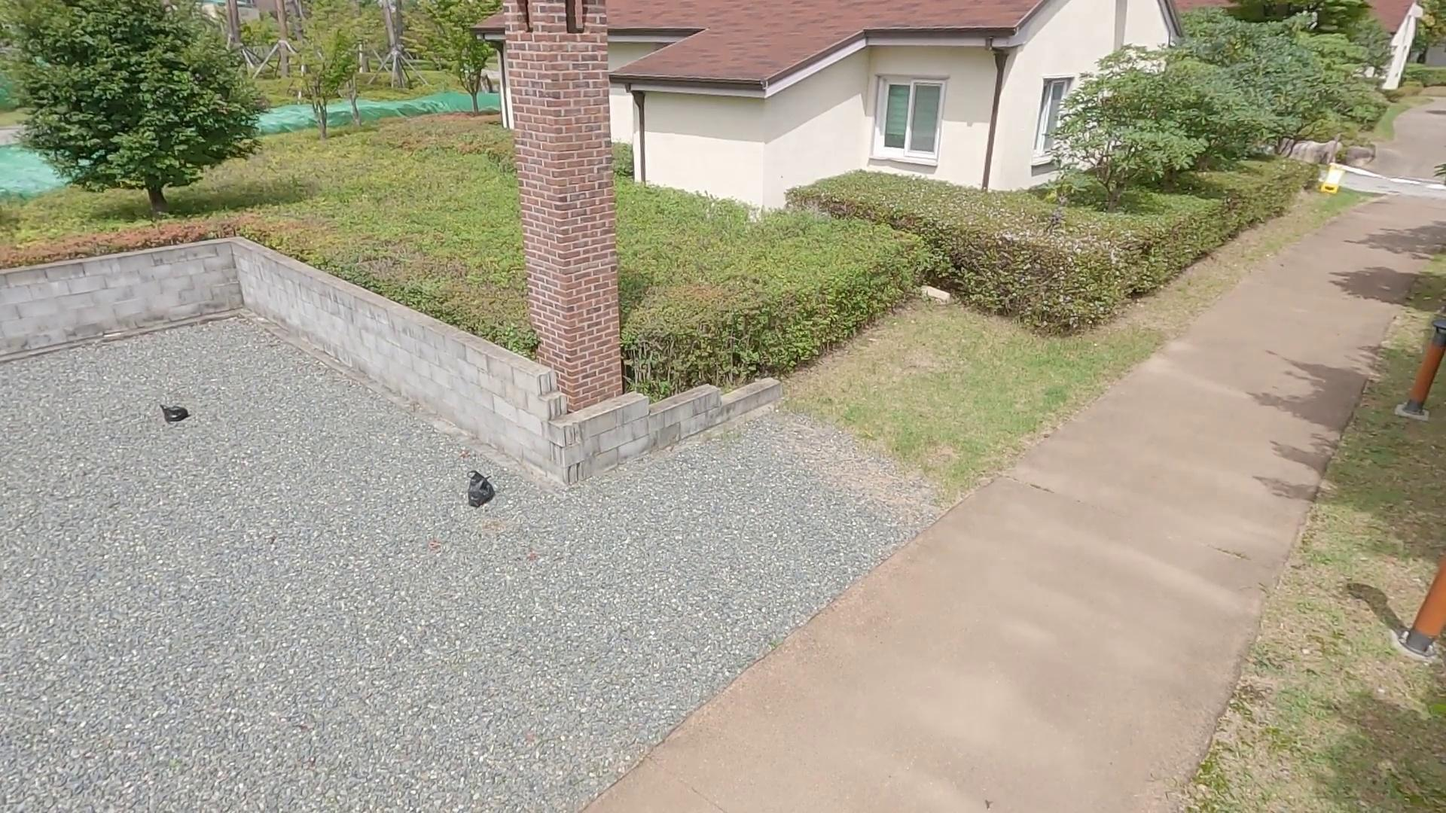trash: (462, 467, 499, 511), (159, 403, 191, 425)
